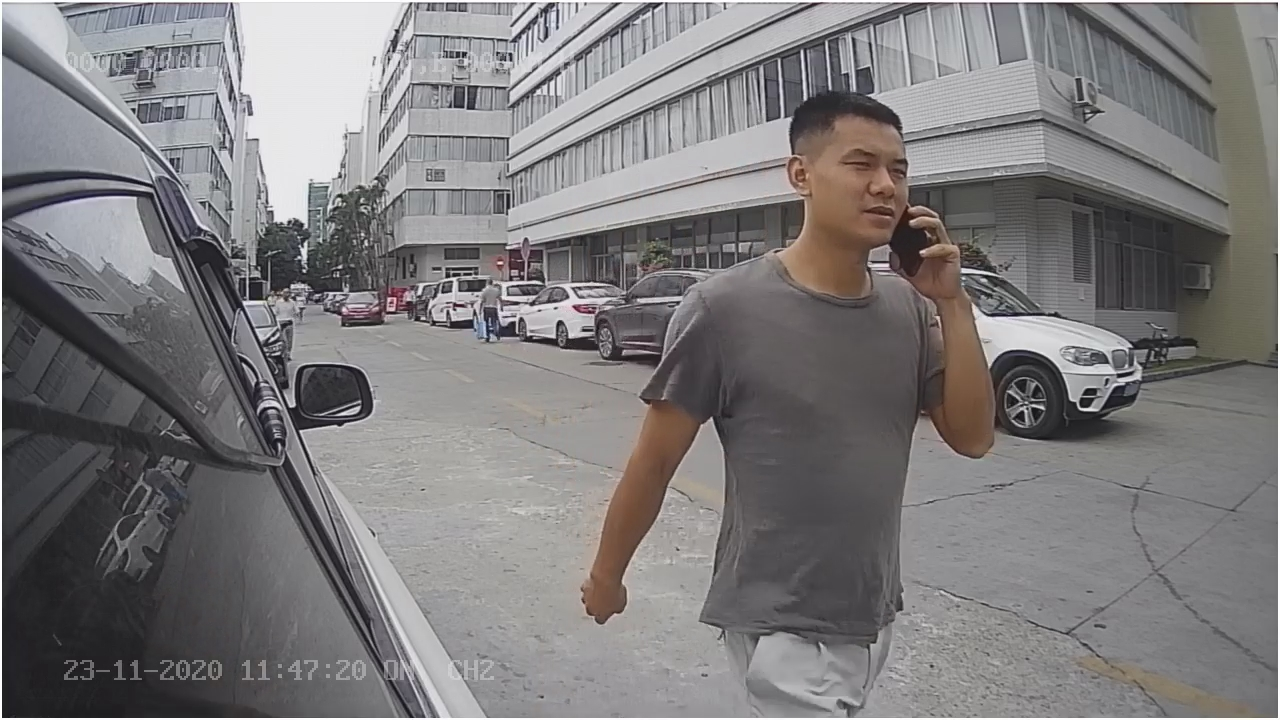person: (584, 65, 1002, 627)
